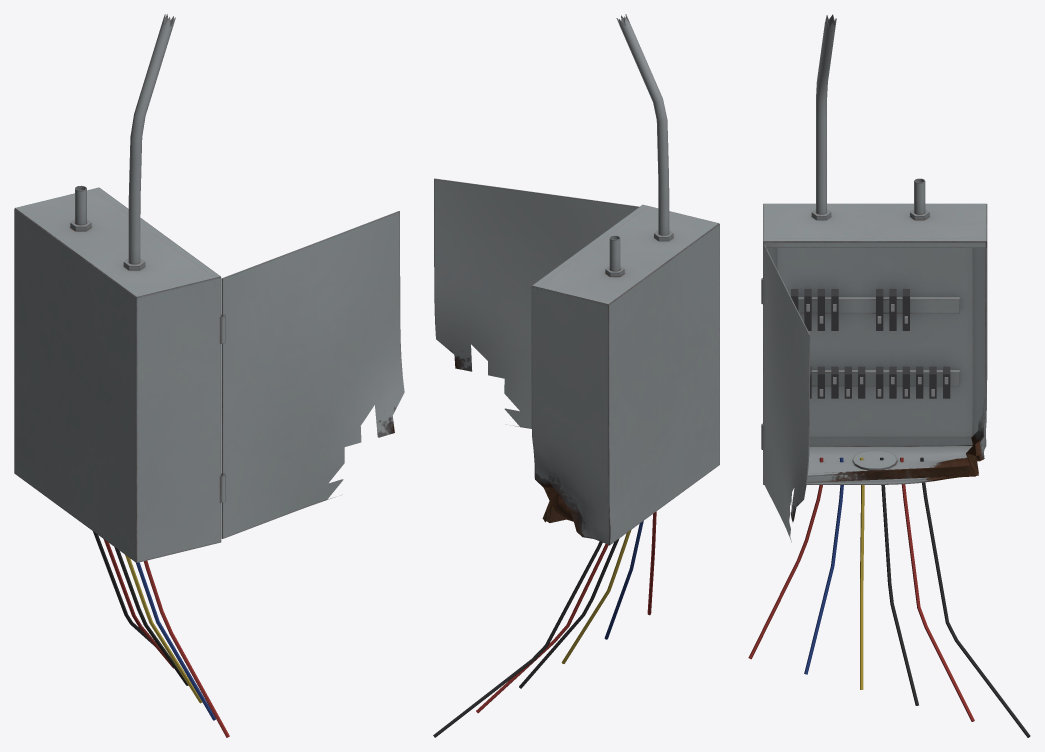
The model's file is industrial_junction_box_broken.glb.
3 renders of one model, left to right at view 1: azimuth 30°, elevation 25°; view 2: azimuth 150°, elevation 25°; view 3: azimuth 270°, elevation 25°, orthographic. The views are drawn at different scales.
Parts seen in each view (by area): view 1: industrial_junction_box_broken_paint, industrial_junction_box_broken_cable_red, industrial_junction_box_broken_rubber, industrial_junction_box_broken_cable_blue, industrial_junction_box_broken_cable_yellow; view 2: industrial_junction_box_broken_paint, industrial_junction_box_broken_rubber, industrial_junction_box_broken_cable_red, industrial_junction_box_broken_cable_yellow, industrial_junction_box_broken_cable_blue; view 3: industrial_junction_box_broken_paint, industrial_junction_box_broken_dark, industrial_junction_box_broken_rubber, industrial_junction_box_broken_cable_red, industrial_junction_box_broken_cable_yellow, industrial_junction_box_broken_cable_blue, industrial_junction_box_broken_bolt.
Part boxes in pixels (box(x1,y1,x2,y2)): industrial_junction_box_broken_paint: box(14, 14, 404, 562); industrial_junction_box_broken_cable_red: box(103, 539, 229, 737); industrial_junction_box_broken_rubber: box(93, 531, 188, 685); industrial_junction_box_broken_cable_blue: box(135, 562, 215, 720); industrial_junction_box_broken_cable_yellow: box(125, 555, 202, 703); industrial_junction_box_broken_paint: box(434, 14, 719, 545); industrial_junction_box_broken_rubber: box(433, 538, 619, 737); industrial_junction_box_broken_cable_red: box(476, 511, 656, 713); industrial_junction_box_broken_cable_yellow: box(561, 530, 631, 663); industrial_junction_box_broken_cable_blue: box(604, 521, 643, 639); industrial_junction_box_broken_paint: box(761, 14, 987, 542); industrial_junction_box_broken_dark: box(791, 289, 950, 398); industrial_junction_box_broken_rubber: box(880, 457, 1030, 737); industrial_junction_box_broken_cable_red: box(748, 457, 974, 721); industrial_junction_box_broken_cable_yellow: box(860, 457, 864, 689); industrial_junction_box_broken_cable_blue: box(804, 457, 843, 674); industrial_junction_box_broken_bolt: box(806, 304, 948, 396).
Size of the model in its own units: 0.6894 by 1.68 by 0.6318.
7 materials, 1 textured.
